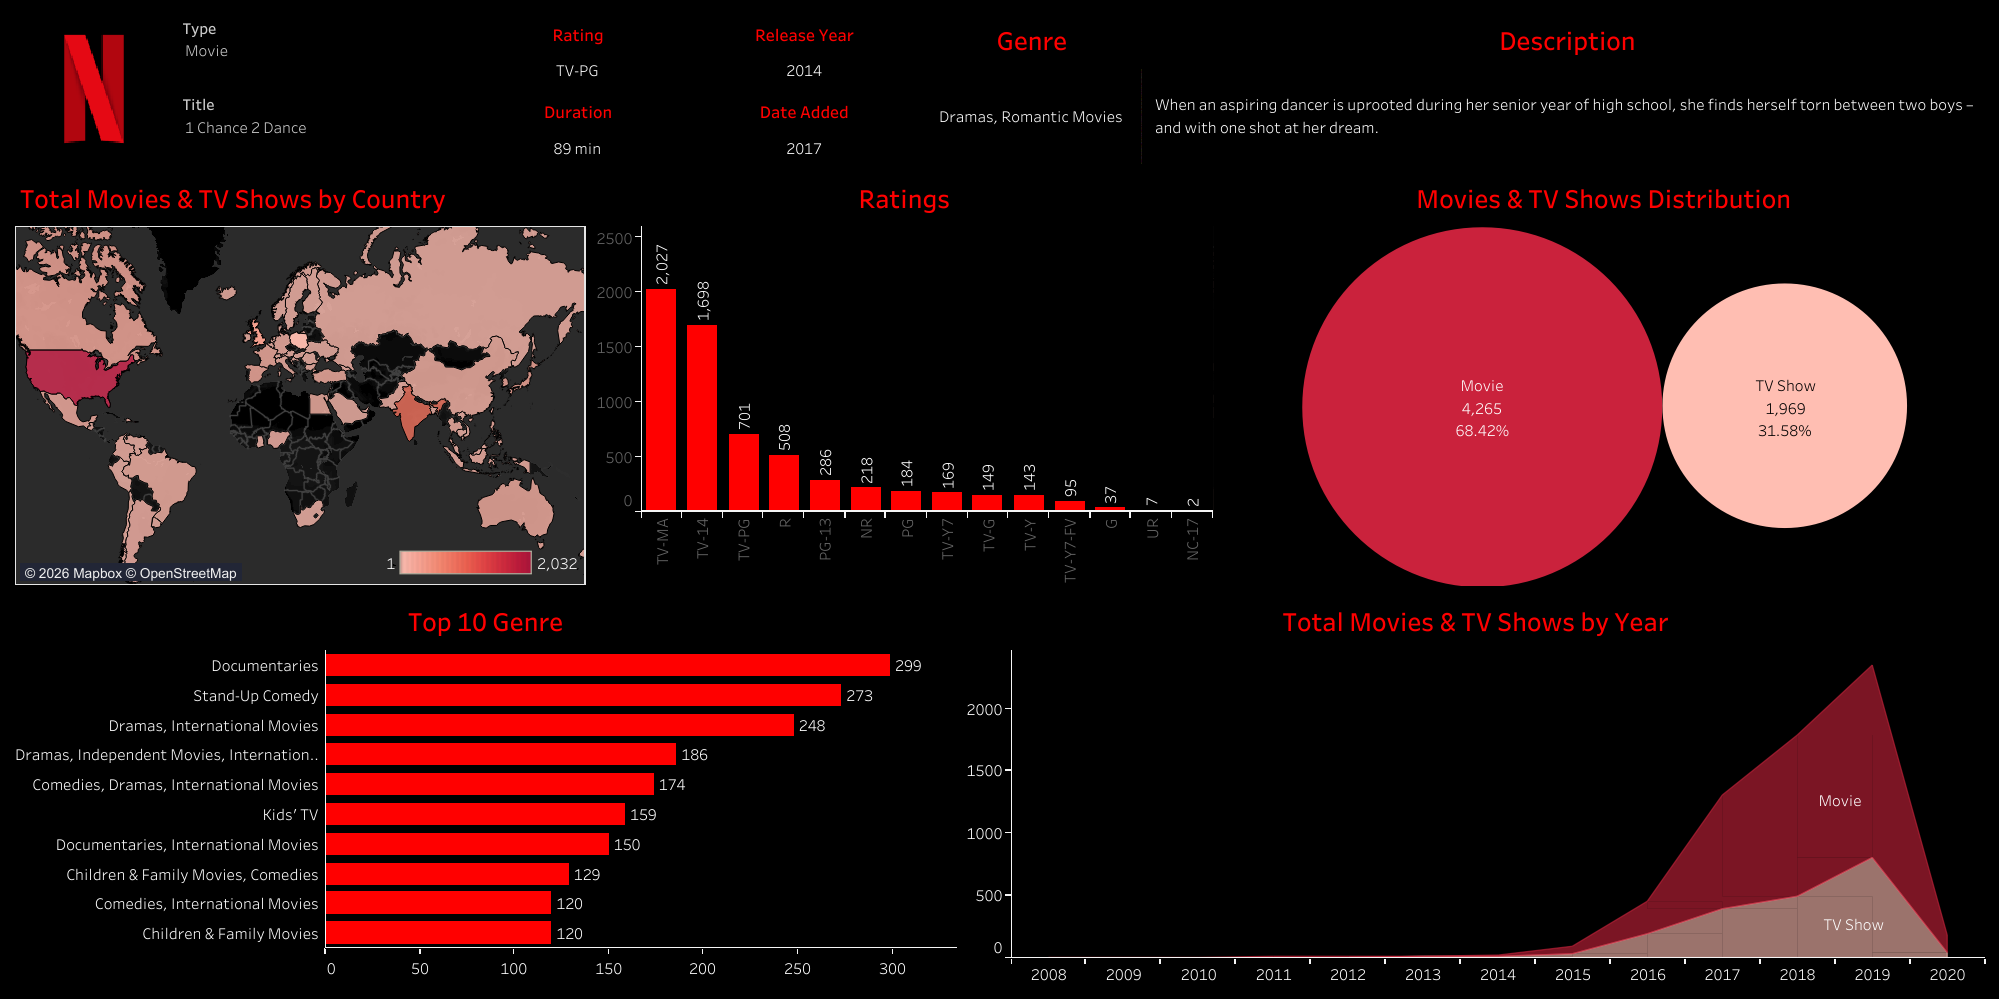

Layout of this report page (visuals, bound fields, positions):
{"tool":"tableau","page":{"name":"Netflix","canvas":[1000,1000],"units":"permille","ordinal":0},"visuals":[{"type":"image","param":"D:/Downloads/Netflix-Symbol.png","box":[5.8,10,83.4,157.5]},{"type":"filter","title":"Duration","param":"[federated.0xwx4dd1qlwrhr1022tdd1nbh2s0].[none:type:nk]","box":[89.2,10,144.1,76.2]},{"type":"worksheet","title":"Rating","mark":"Automatic","box":[233.3,10,111.8,76.2]},{"type":"worksheet","title":"Release Year","mark":"Automatic","box":[345.1,10,114.3,76.2]},{"type":"worksheet","title":"Genre","mark":"Automatic","box":[459.4,10,112.9,157.5]},{"type":"worksheet","title":"Description","mark":"Automatic","box":[572.2,10,421.9,157.5]},{"type":"filter","title":"Duration","param":"[federated.0xwx4dd1qlwrhr1022tdd1nbh2s0].[none:title:nk]","box":[89.2,86.2,144.1,81.2]},{"type":"worksheet","title":"Duration","mark":"Automatic","box":[233.3,86.2,111.8,81.2]},{"type":"worksheet","title":"Date Added","mark":"Automatic","box":[345.1,86.2,114.3,81.2]},{"type":"worksheet","title":"Total Movies & TV Shows by Country","mark":"Multipolygon","box":[5.8,167.5,290.4,423.8]},{"type":"worksheet","title":"Ratings","mark":"Automatic","rows":["show_id"],"cols":["rating"],"box":[296.2,167.5,312.7,423.8]},{"type":"worksheet","title":"Movies & TV Shows Distribution","mark":"Circle","box":[608.9,167.5,385.3,423.8]},{"type":"legend","title":"Total Movies & TV Shows by Country","param":"[federated.0xwx4dd1qlwrhr1022tdd1nbh2s0].[ctd:show_id:qk]","box":[190.4,546.2,101.7,37.5]},{"type":"worksheet","title":"Top 10 Genre","mark":"Automatic","rows":["listed_in"],"cols":["show_id"],"box":[5.8,591.2,475.1,398.8]},{"type":"worksheet","title":"Total Movies & TV Shows by Year","mark":"Area","rows":["show_id"],"cols":["date_added"],"box":[480.9,591.2,513.2,398.8]}]}

Visuals, with their boxes on the dashboard's canvas, which has no fixed pixel size, in thousandths of its width and height (x1, y1, x2, y2). These are canvas units, not pixel positions in the 1999x999 screenshot, which may show the page scaled, cropped or inside an application window:
image: [x1=6, y1=10, x2=89, y2=168]
"Duration" filter: [x1=89, y1=10, x2=233, y2=86]
"Rating" worksheet: [x1=233, y1=10, x2=345, y2=86]
"Release Year" worksheet: [x1=345, y1=10, x2=459, y2=86]
"Genre" worksheet: [x1=459, y1=10, x2=572, y2=168]
"Description" worksheet: [x1=572, y1=10, x2=994, y2=168]
"Duration" filter: [x1=89, y1=86, x2=233, y2=167]
"Duration" worksheet: [x1=233, y1=86, x2=345, y2=167]
"Date Added" worksheet: [x1=345, y1=86, x2=459, y2=167]
"Total Movies & TV Shows by Country" worksheet (Multipolygon marks): [x1=6, y1=168, x2=296, y2=591]
"Ratings" worksheet: [x1=296, y1=168, x2=609, y2=591]
"Movies & TV Shows Distribution" worksheet (Circle marks): [x1=609, y1=168, x2=994, y2=591]
"Total Movies & TV Shows by Country" legend: [x1=190, y1=546, x2=292, y2=584]
"Top 10 Genre" worksheet: [x1=6, y1=591, x2=481, y2=990]
"Total Movies & TV Shows by Year" worksheet (Area marks): [x1=481, y1=591, x2=994, y2=990]
